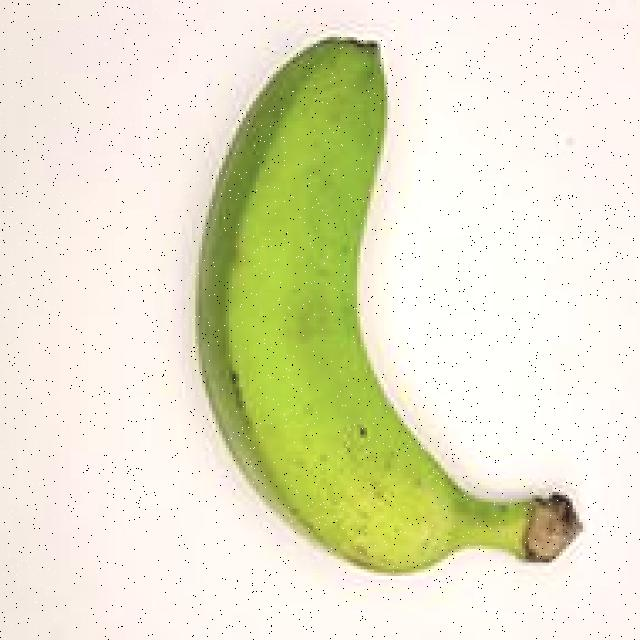Unripe: (184, 23, 590, 619)
